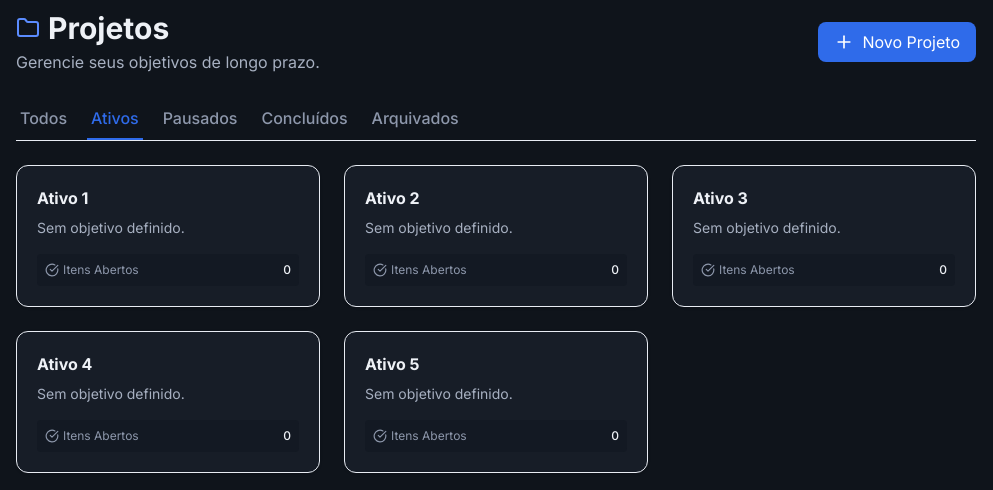
Test: ProjetosPage — filtros › filtro sem correspondência mostra mensagem específica, não "consulta falhou"
The image size is (993, 490).
Expected: the heading "Ativo 1" is shown, [37, 186, 88, 210]
What coordinates should you click on to do the following:
click the button "Concluídos"
I would click on:
 (305, 123)
Its box is [258, 106, 352, 140].
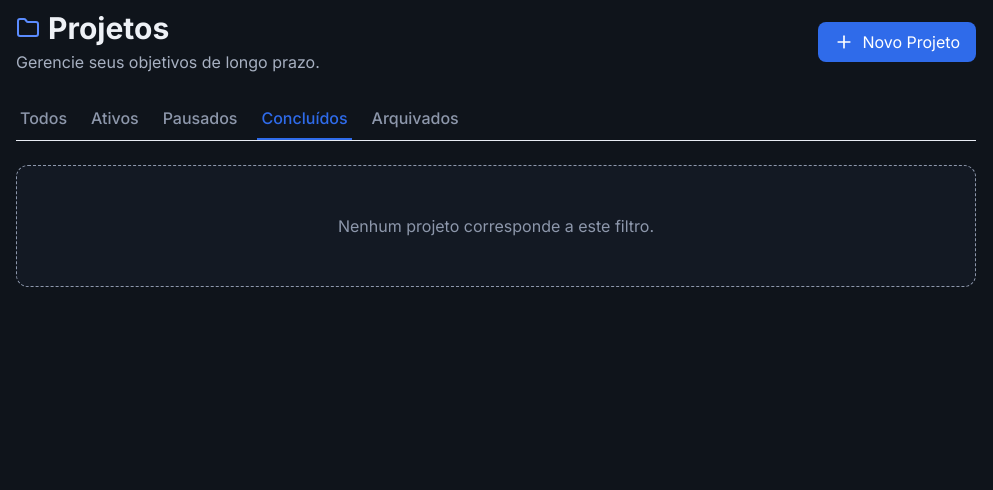
Expected: the text "Nenhum projeto corresponde a este filtro." is shown, [16, 165, 976, 287]
